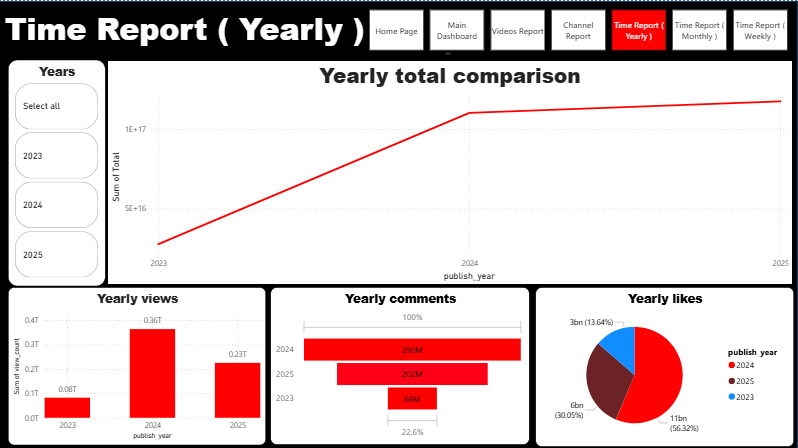

What the dashboard file says about the page in this screenshot:
{"tool":"powerbi","page":{"name":"Time Report ( Yearly )","canvas":[1280,720],"ordinal":5},"visuals":[{"type":"shape","box":[0,0,1280,720],"z":0},{"type":"textbox","title":"Time Report ( Yearly  )","box":[7,10.7,723.3,80],"z":1000},{"type":"columnChart","title":"Yearly views","fields":{"Y":["Sum(Fact_Views.view_count)"],"Category":["Dim_Time.publish_year"]},"box":[15.7,458.6,412.9,252.9],"z":2000},{"type":"pieChart","title":"Yearly likes","fields":{"Category":["Dim_Time.publish_year"],"Y":["Sum(Fact_Views.like_count)"]},"box":[859,458.3,413.3,255],"z":3000},{"type":"funnel","title":"Yearly comments","fields":{"Category":["Dim_Time.publish_year"],"Y":["Sum(Fact_Views.comment_count)"]},"box":[435,458.3,414.7,251.7],"z":4000},{"type":"lineChart","title":"Yearly total comparison","fields":{"Y":["Sum(Fact_Views.engagement)"],"Category":["Dim_Time.publish_year"]},"box":[176,95,1094,356.7],"z":5000},{"type":"advancedSlicerVisual","title":"Years","fields":{"Values":["Dim_Time.publish_year"]},"box":[15.7,93.4,155.7,362.3],"z":6000},{"type":"pageNavigator","box":[593.3,13.3,673.3,65],"z":8000}]}

Visuals, with their boxes in screenshot pixels (x1, y1, x2, y2), scaled from the page's 1280x720 canvas onto the 798x448 screenshot:
shape: BBox(0, 0, 797, 447)
"Time Report ( Yearly  )" textbox: BBox(4, 7, 455, 56)
"Yearly views" columnChart: BBox(10, 285, 267, 443)
"Yearly likes" pieChart: BBox(536, 285, 793, 444)
"Yearly comments" funnel: BBox(271, 285, 530, 442)
"Yearly total comparison" lineChart: BBox(110, 59, 792, 281)
"Years" advancedSlicerVisual: BBox(10, 58, 107, 284)
pageNavigator: BBox(370, 8, 790, 49)
